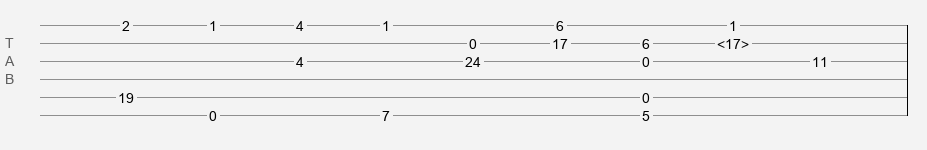0: (209, 108, 217, 118), (469, 36, 477, 46), (642, 54, 650, 64), (642, 90, 650, 100)
1: (209, 18, 217, 28), (382, 18, 390, 28), (729, 18, 737, 28)
11: (812, 54, 828, 64)
17: (552, 36, 568, 46)
19: (118, 90, 134, 100)
2: (122, 18, 130, 28)
24: (465, 54, 481, 64)
4: (296, 54, 304, 64), (296, 18, 304, 28)
5: (642, 108, 650, 118)
6: (556, 18, 564, 28), (642, 36, 650, 46)
7: (382, 108, 390, 118)
harmonic: (717, 36, 749, 46)
